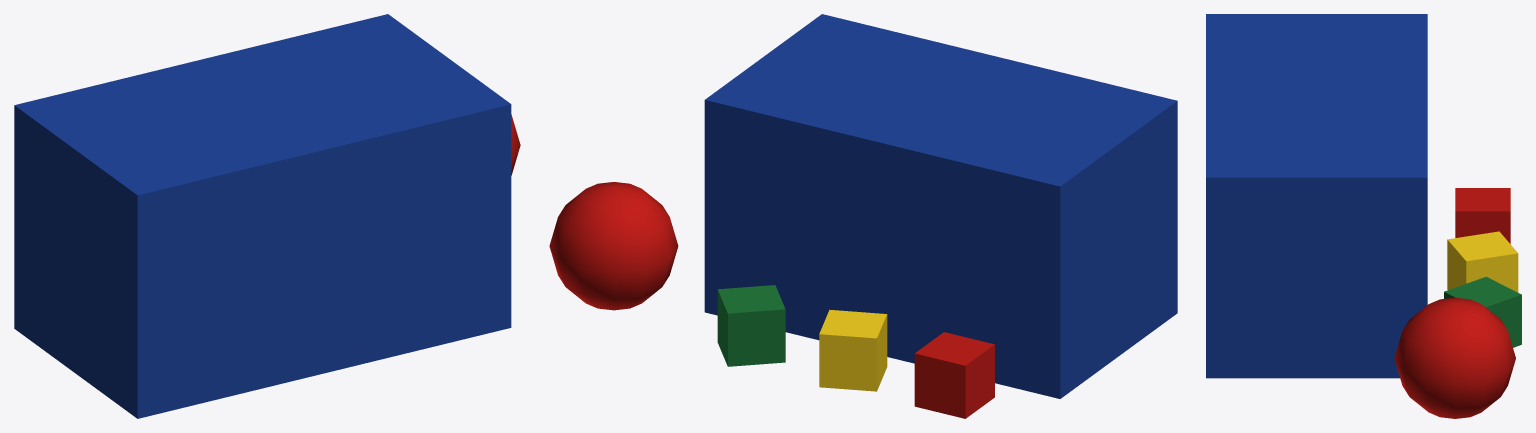
The model's file is home.child.toy_box.glb.
3 views of the same model, side by side, from view 1: azimuth 30°, elevation 25°; view 2: azimuth 150°, elevation 25°; view 3: azimuth 270°, elevation 25° (orthographic). The views are drawn at different scales.
Parts seen in each view (by area): view 1: main__plastic_blue; view 2: main__plastic_blue, main__plastic_red, main__plastic_green, main__plastic_yellow; view 3: main__plastic_blue, main__plastic_red, main__plastic_yellow, main__plastic_green.
Boxes of the visible parts, x1,y1,x2,y2 form: main__plastic_blue: [14, 14, 511, 418]; main__plastic_blue: [704, 14, 1177, 398]; main__plastic_red: [549, 182, 994, 418]; main__plastic_green: [717, 285, 785, 366]; main__plastic_yellow: [819, 309, 887, 391]; main__plastic_blue: [1206, 14, 1427, 378]; main__plastic_red: [1394, 188, 1515, 418]; main__plastic_yellow: [1447, 231, 1518, 292]; main__plastic_green: [1444, 276, 1521, 347].
Bounding box in the file's own units: 0.96 × 0.4 × 0.5704.
